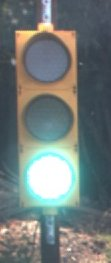Green: (10, 15, 82, 219)
